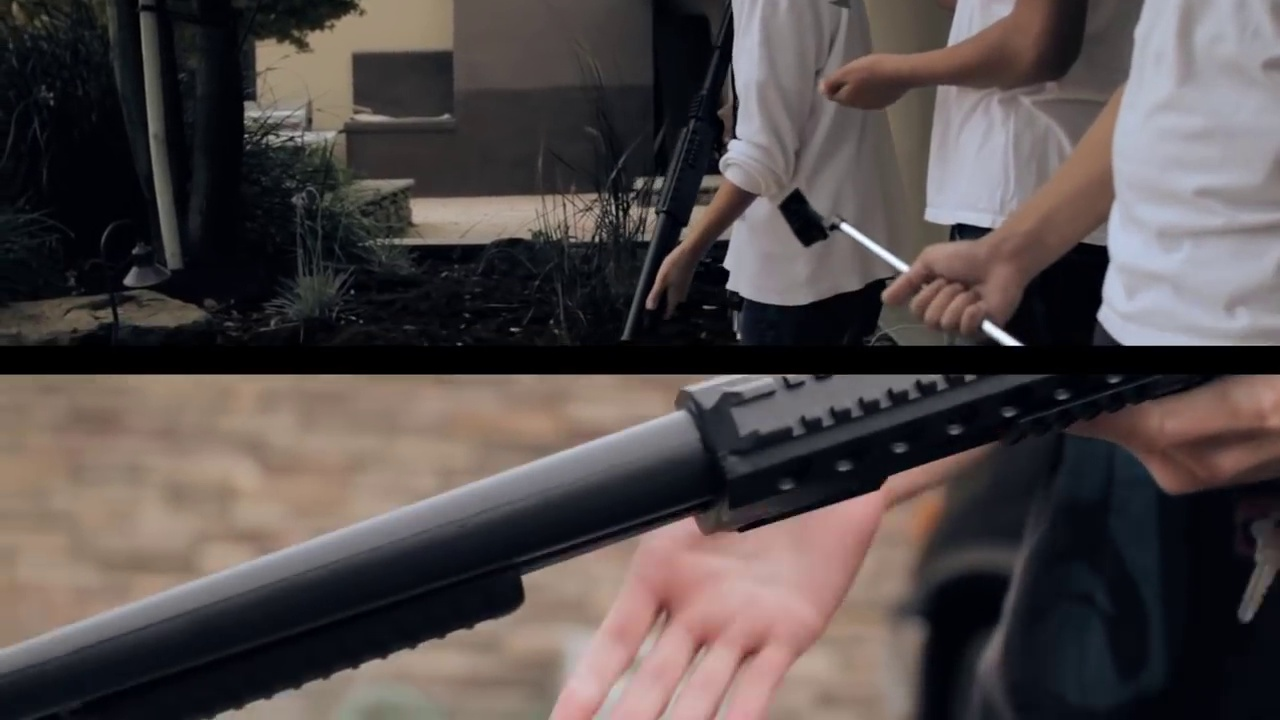gun: (616, 1, 748, 348)
p_w_gun: (615, 0, 910, 358)
p_wo_gun_carrying_another_object: (859, 0, 1280, 351)
p_wo_gun_not_carrying_normal_pose: (816, 0, 1149, 353)
